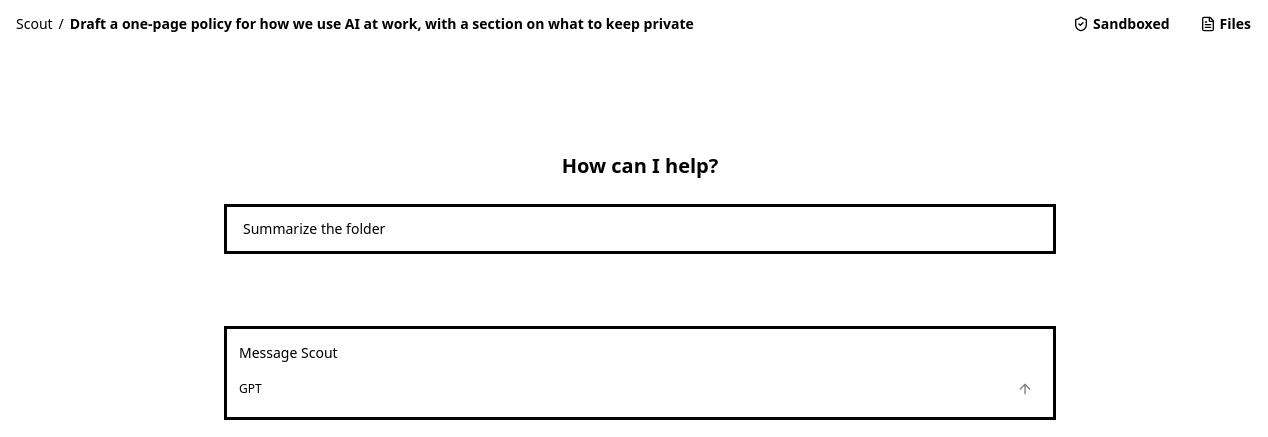
it: a conversation with one agent › greets an empty conversation, and writes a starter in the box
Expected: the heading "How can I help?" is shown, x1=562 y1=152 x2=718 y2=180
Click the button "Summarize the folder" at {"x": 314, "y": 228}, box x1=224 y1=204 x2=1056 y2=254
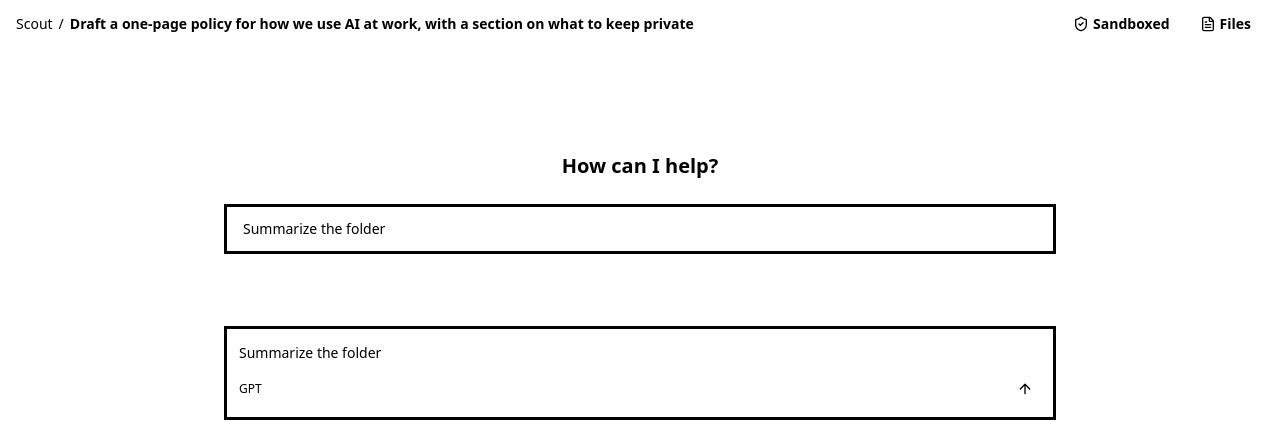
Now the text box named "Message Scout" holds "Summarize the folder", box x1=239 y1=341 x2=1041 y2=365
